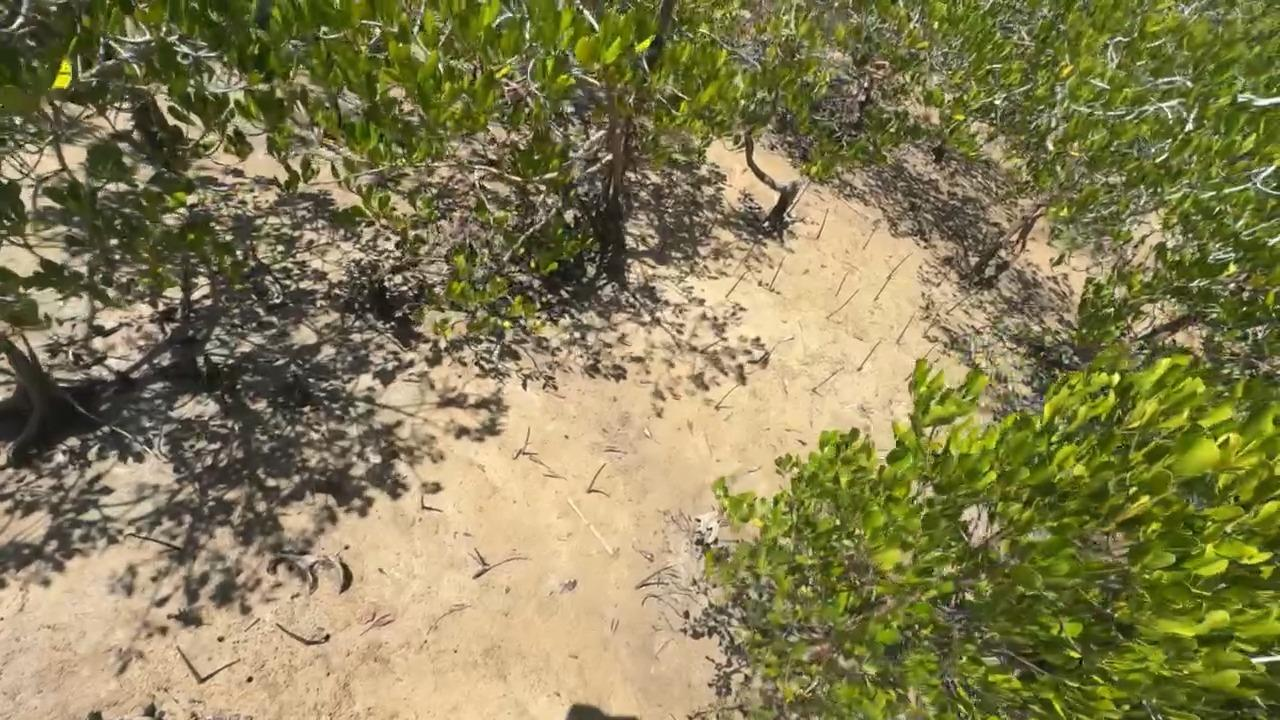Tree: (174, 644, 203, 687), (827, 287, 862, 318), (274, 620, 313, 647), (634, 564, 674, 590), (809, 365, 847, 392), (714, 379, 745, 410), (725, 266, 751, 300), (856, 338, 881, 372), (885, 253, 912, 281), (946, 291, 973, 318), (585, 461, 607, 494), (862, 215, 880, 248), (896, 312, 915, 343), (769, 254, 785, 289), (875, 275, 897, 300), (815, 208, 831, 239), (471, 544, 492, 567), (833, 271, 850, 297), (522, 425, 533, 453), (825, 304, 913, 307)
